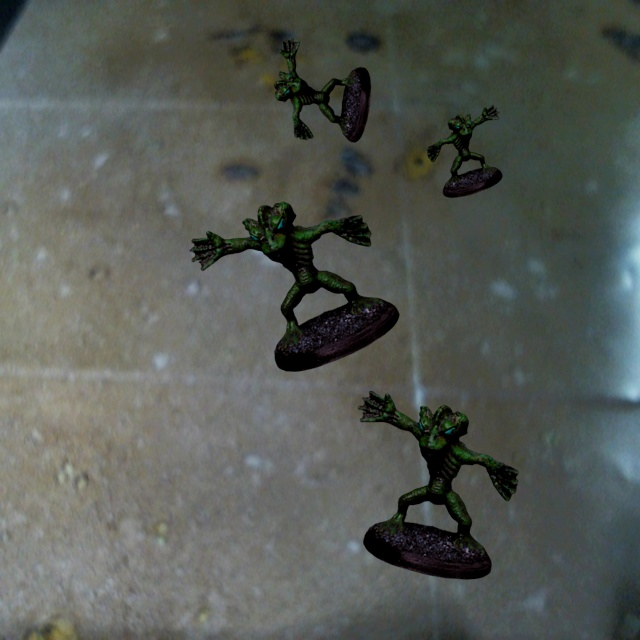pieza_juego: (189, 201, 399, 371), (358, 391, 518, 579), (274, 38, 370, 142), (426, 105, 502, 197)
